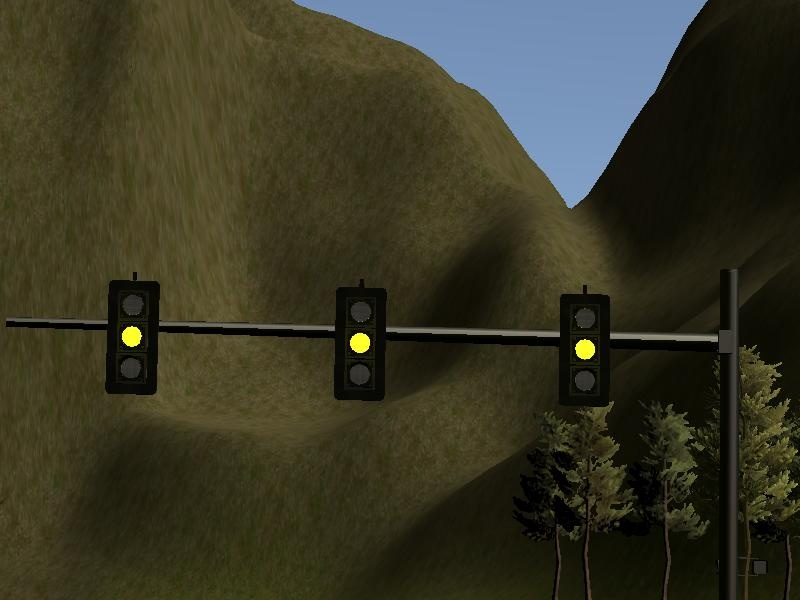YELLOW: (559, 288, 616, 406), (331, 284, 388, 402), (102, 279, 159, 397)
